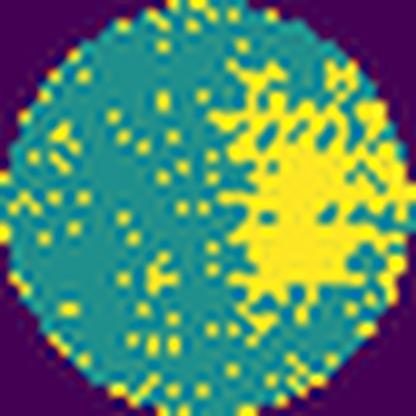Loc: (201, 59, 416, 341)
